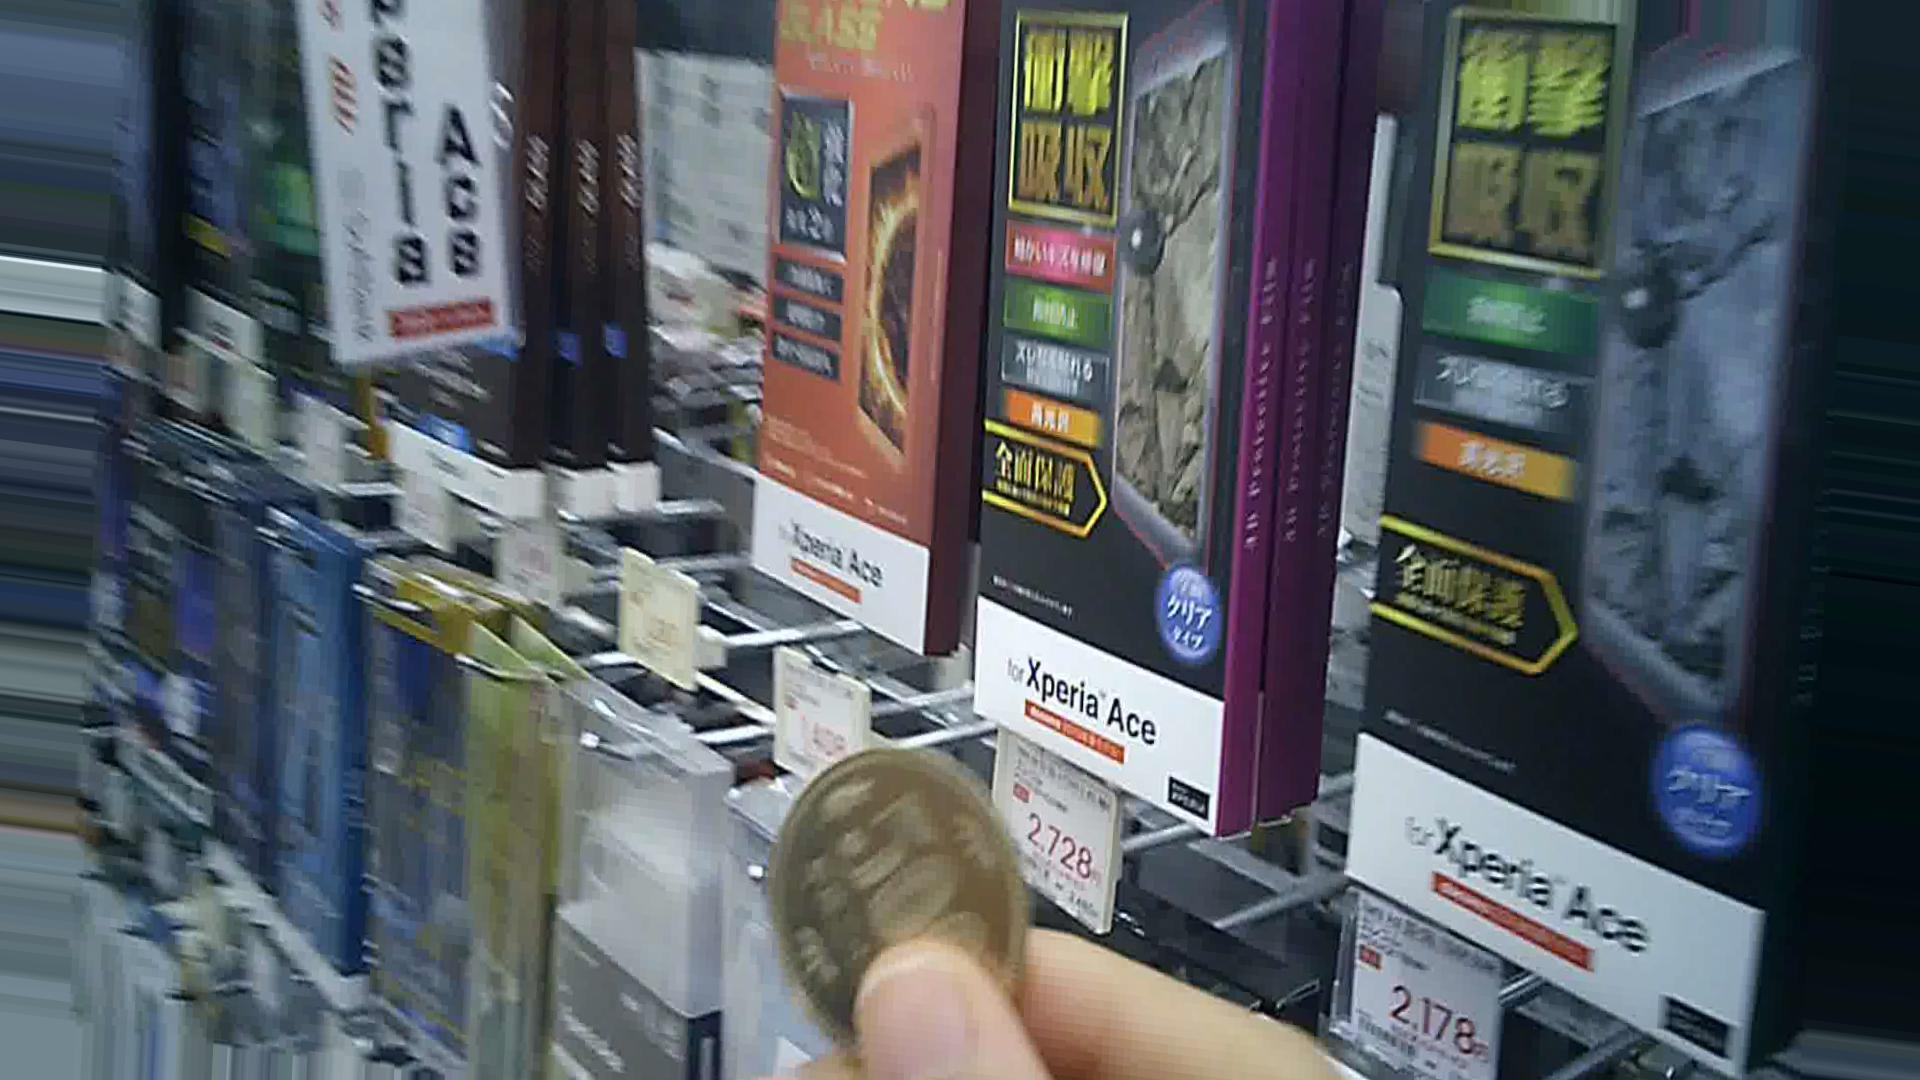500 Yen: (762, 745, 1052, 1036)
